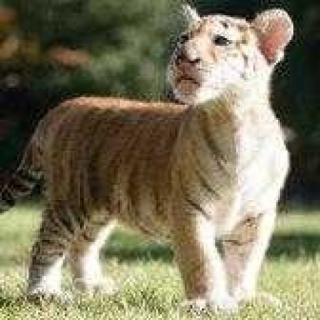Tiger: (16, 5, 295, 314)
